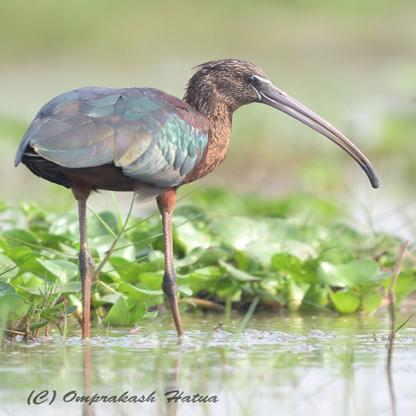Burung: (13, 60, 380, 342)
